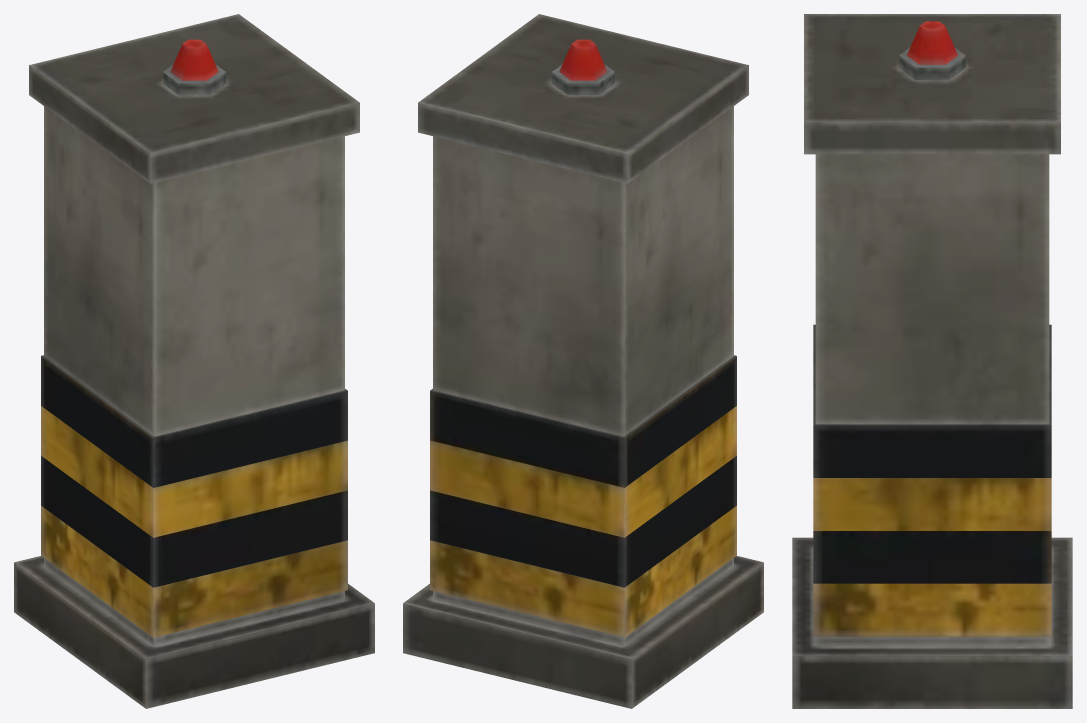
File: wall_gate.glb
The picture shows the model from 3 angles, left to right: view 1: azimuth 30°, elevation 25°; view 2: azimuth 150°, elevation 25°; view 3: azimuth 270°, elevation 25°; orthographic projection. The views are drawn at different scales.
Visible parts, largest first — view 1: te_grounds_wall_gate; view 2: te_grounds_wall_gate; view 3: te_grounds_wall_gate.
Part boxes in pixels (x1=…): te_grounds_wall_gate: x1=14, y1=14, x2=374, y2=708; te_grounds_wall_gate: x1=403, y1=14, x2=763, y2=708; te_grounds_wall_gate: x1=792, y1=14, x2=1072, y2=708.
Size of the model in its own units: 0.24 by 0.59 by 0.24.
1 material, 1 textured.
